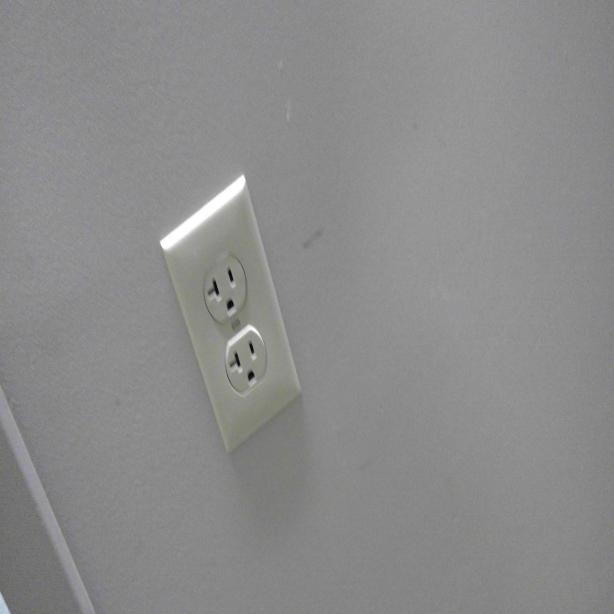typeb: (224, 337, 264, 390), (208, 262, 242, 318)
